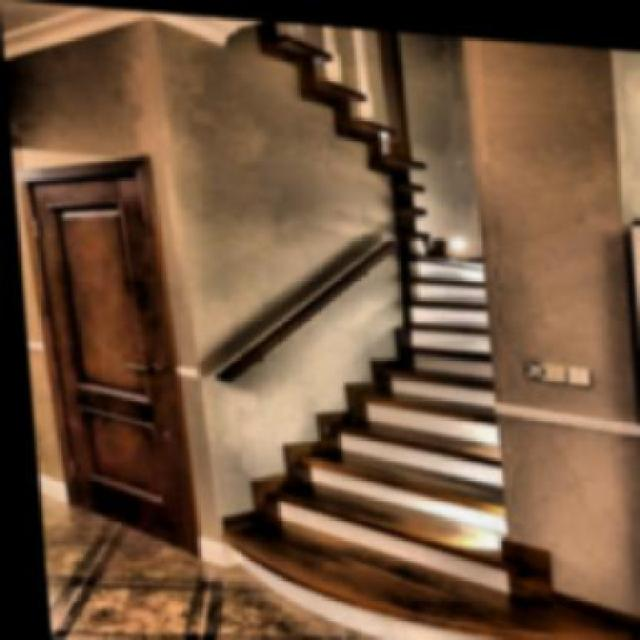stair: (212, 238, 568, 576)
